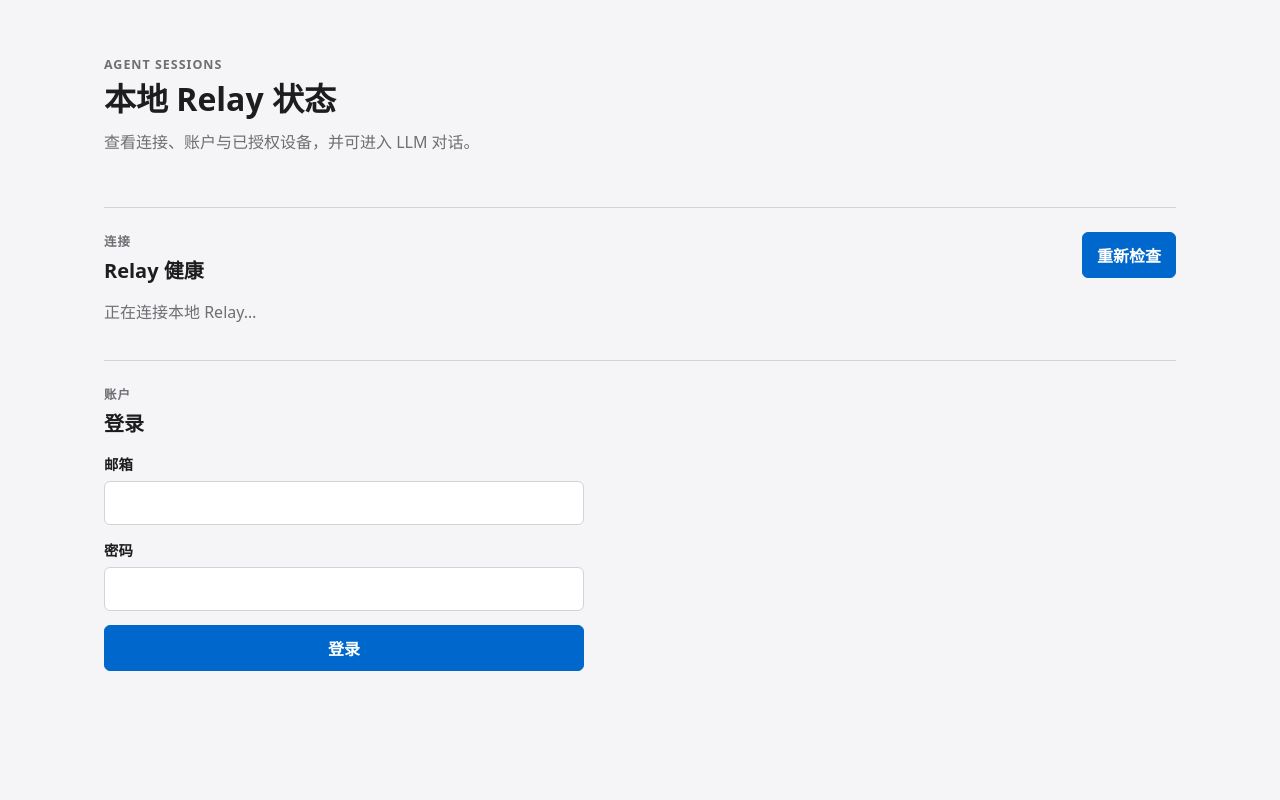
Test: Relay 状态页 › WEB-01：登录后只读展示设备、会话与能力矩阵摘要
Type "a@b.dev" into the field with test id "login-email" at (344, 503), box left=104, top=481, right=584, bottom=525
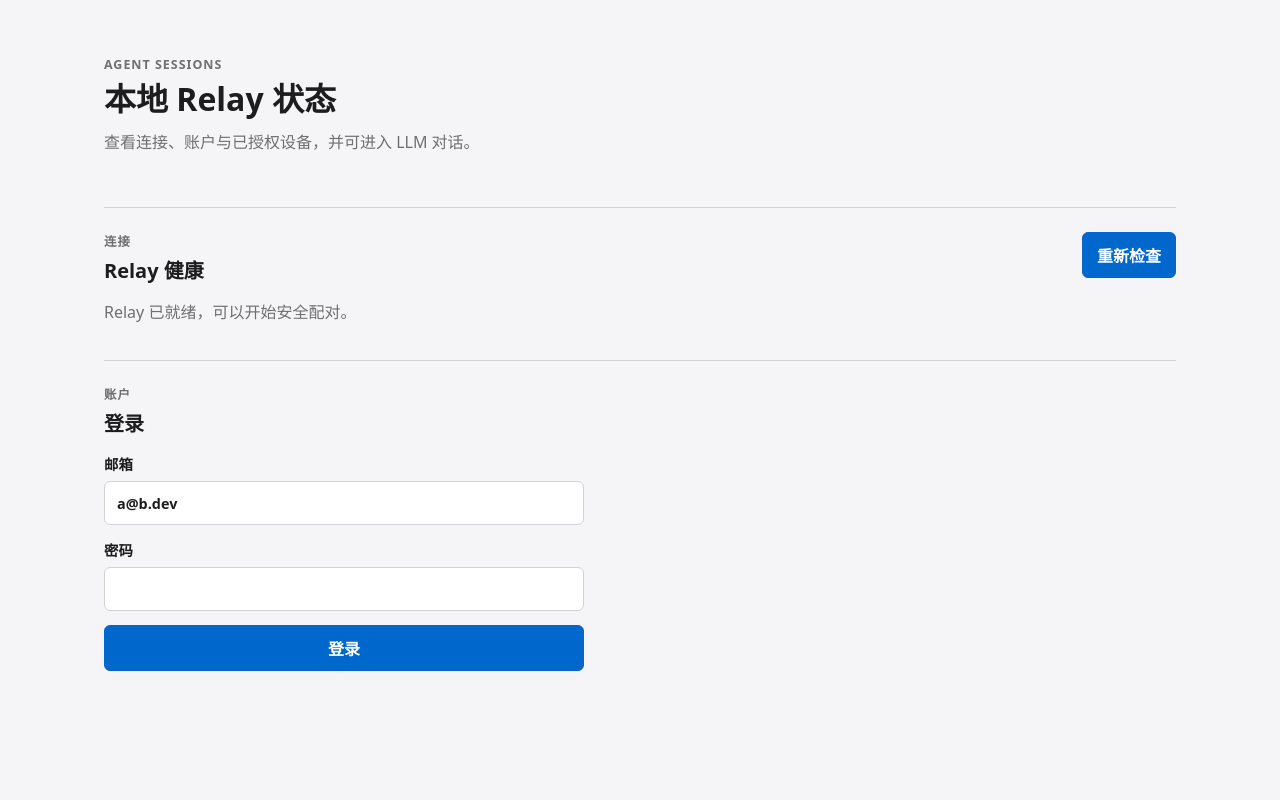
Type "pw" into the password field with test id "login-password" at (344, 589), box left=104, top=567, right=584, bottom=611
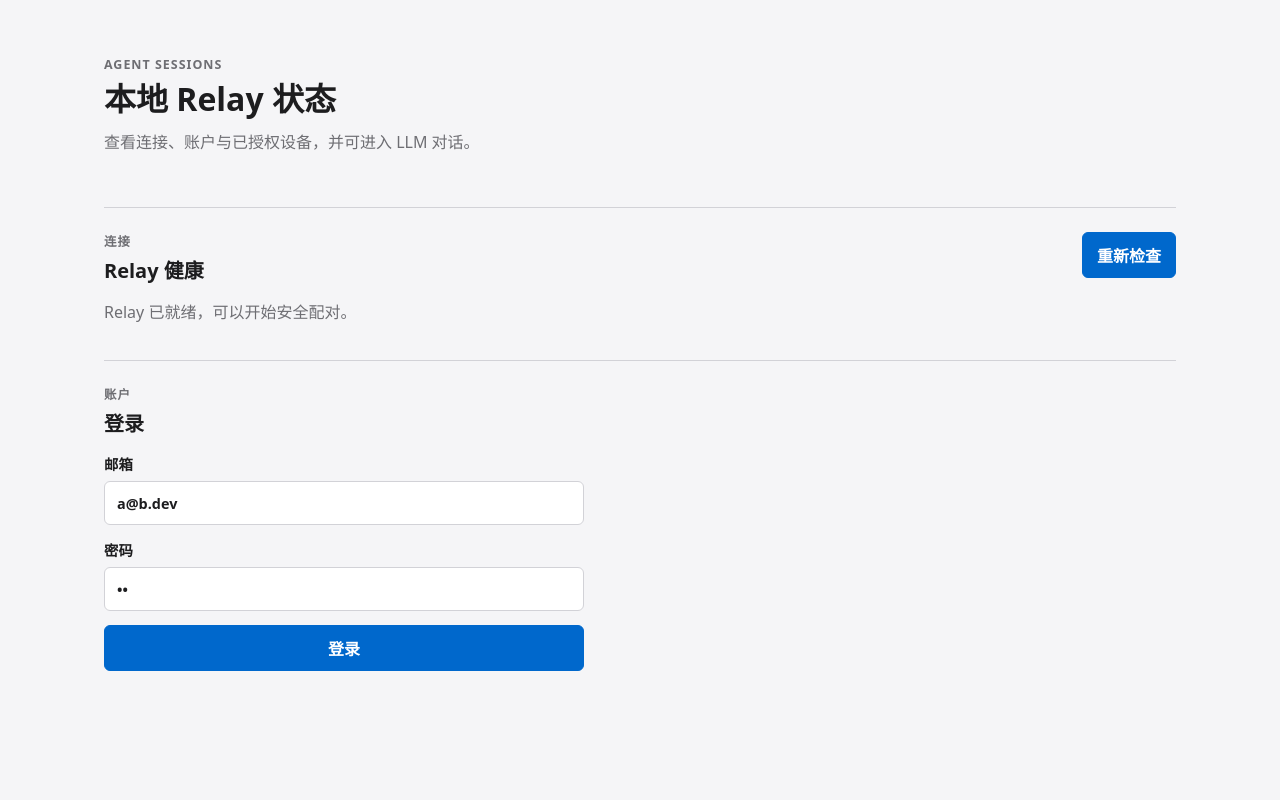
Submit the form with test id "login-form", box left=104, top=453, right=584, bottom=671
(page scrolled)
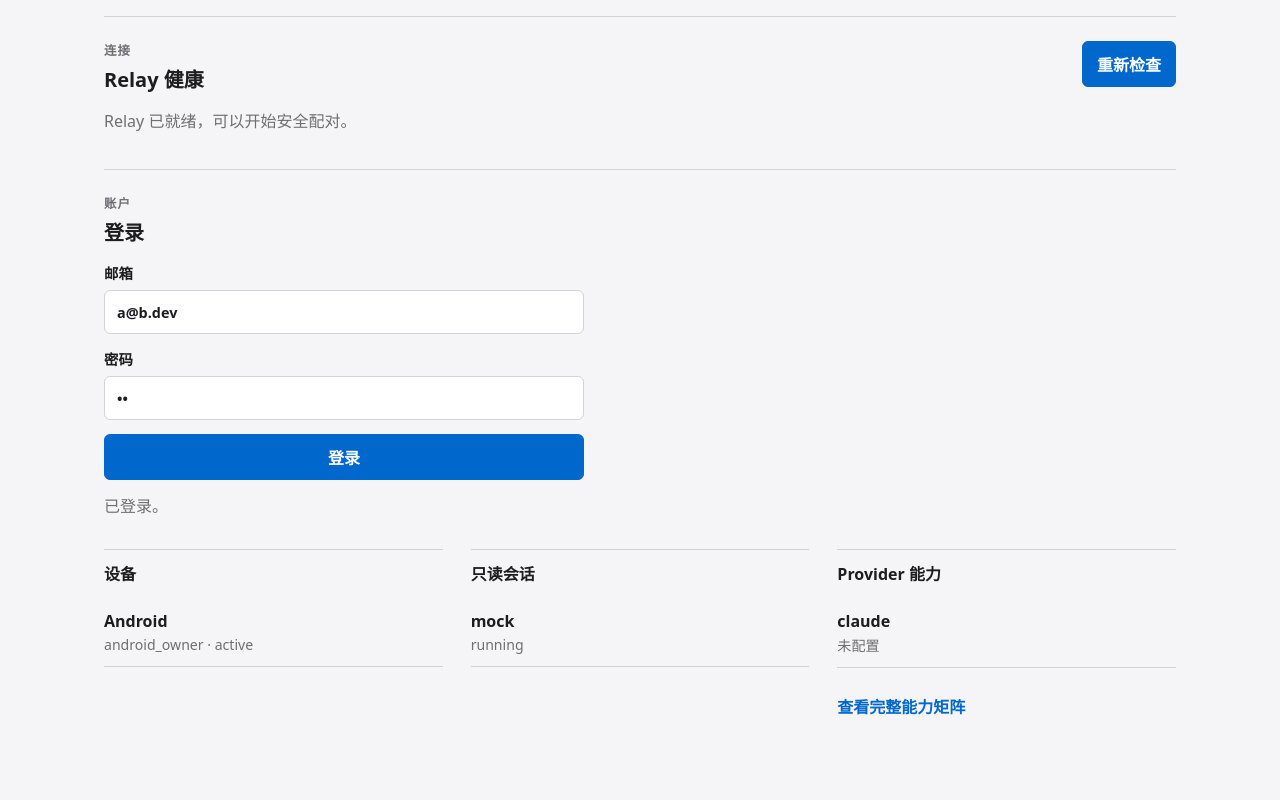
Now the message with test id "auth-ok" shows "已登录", box left=104, top=495, right=168, bottom=517
Now the list with test id "device-list" shows "Android", box left=104, top=610, right=168, bottom=632
Now the list with test id "session-list" shows "mock", box left=471, top=610, right=514, bottom=632
